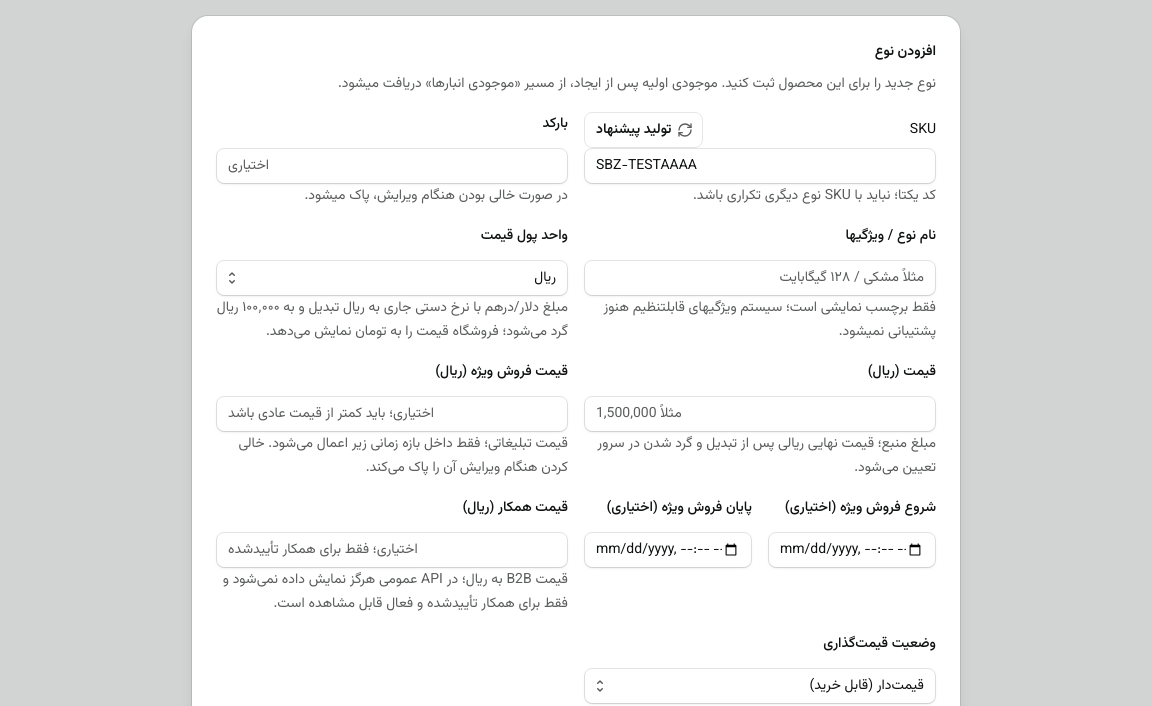
VariantForm SKU suggestion (SS-256) › regenerates only while the field is untouched or empty
The width and height of the screenshot is (1152, 706).
Click the button "تولید پیشنهاد".
click(644, 130)  # box [584, 112, 703, 148]
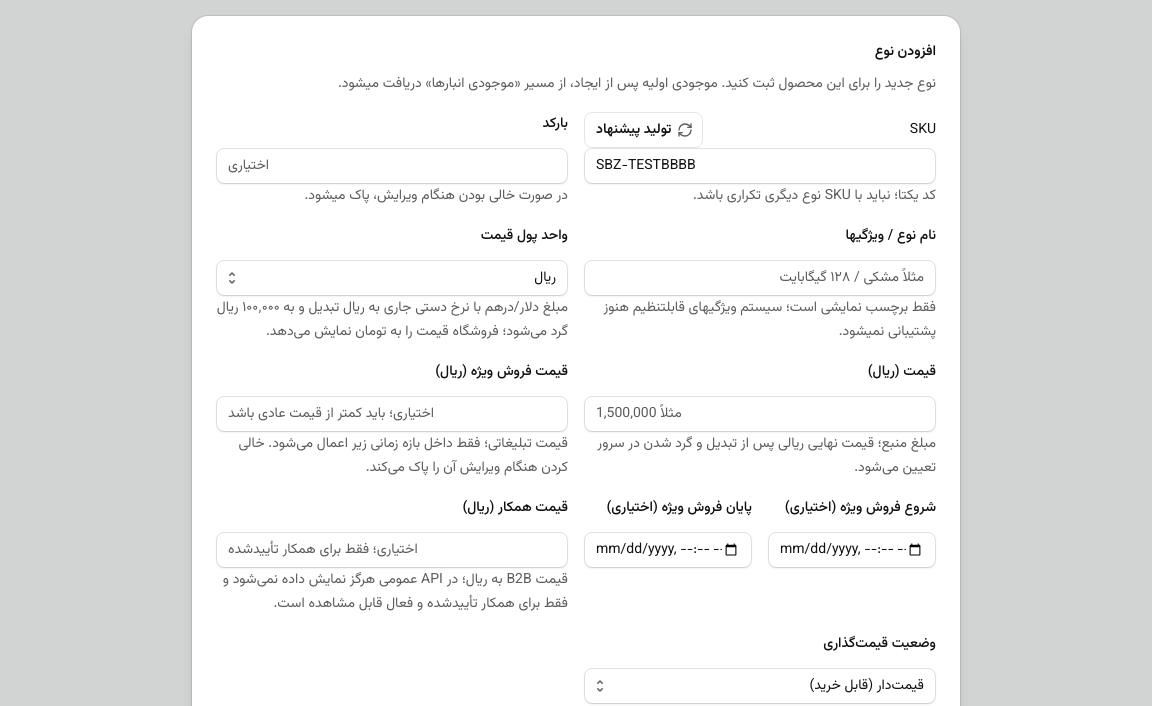
Expected: the field labelled "SKU" holds "SBZ-TESTBBBB"
Replace the text in the field labelled "SKU" with "MY-SKU-1" at (760, 166), box [584, 148, 936, 184]
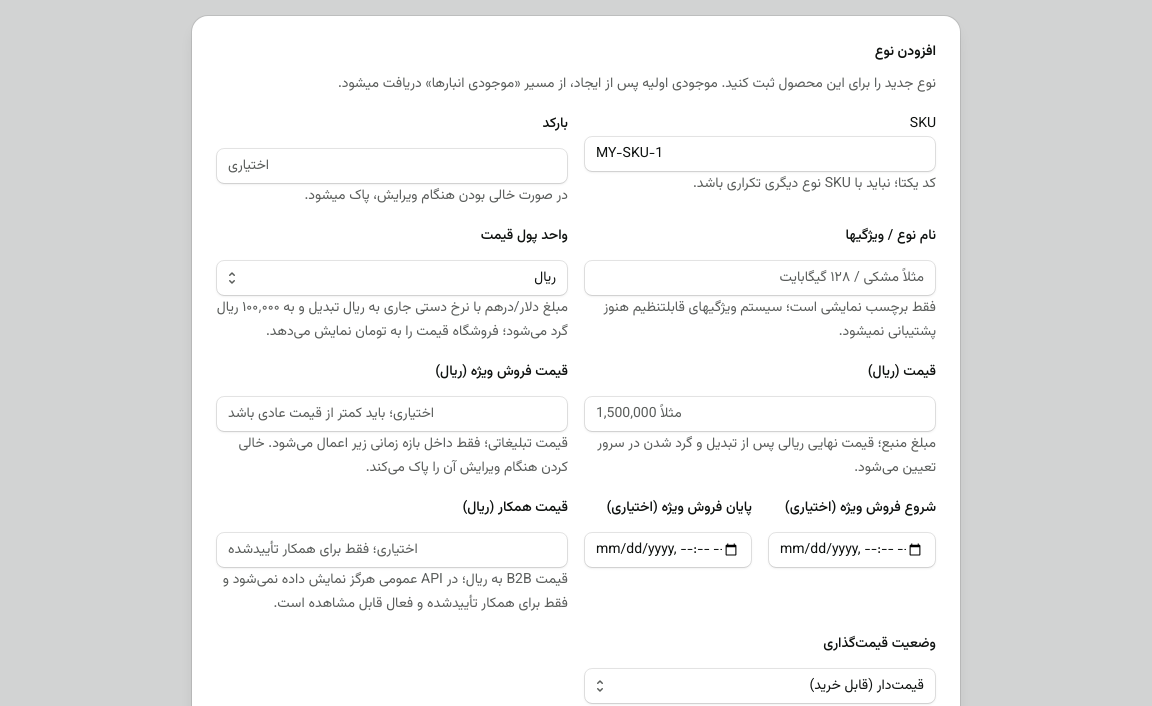
Expected: the button "تولید پیشنهاد" is gone
// Clearing the field re-opens the affordance as one-click recovery.
Clear the field labelled "SKU" at (760, 154), box [584, 136, 936, 172]
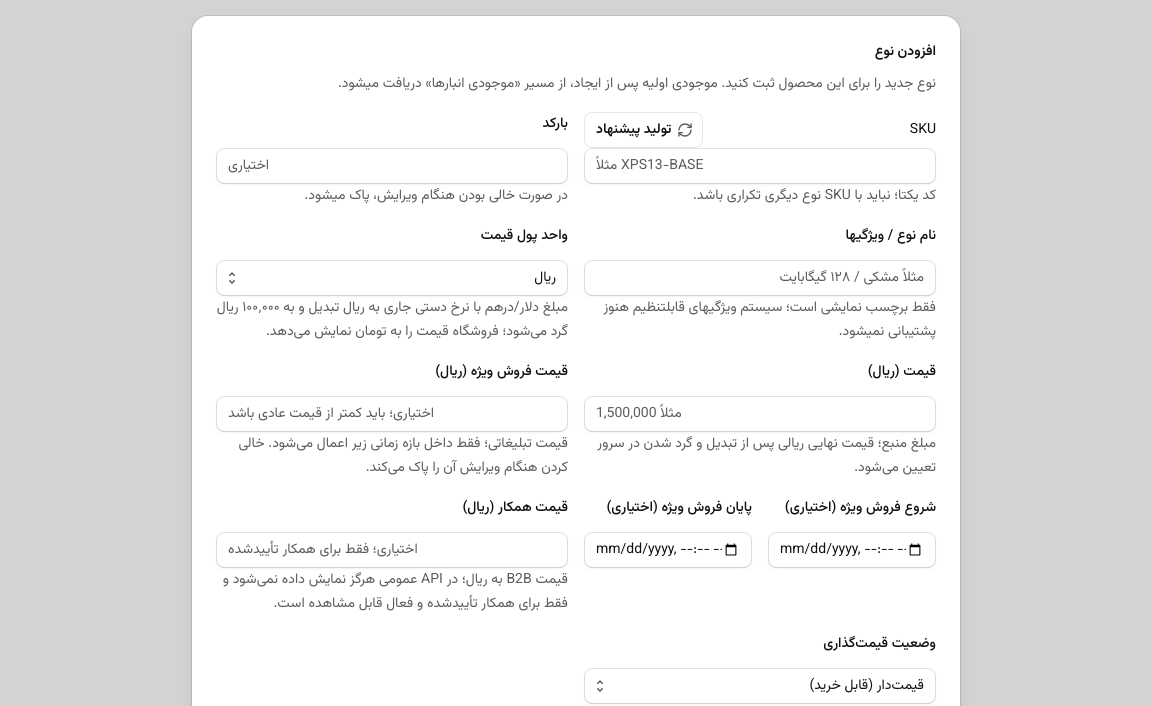
Expected: the button "تولید پیشنهاد" is shown, [584, 112, 703, 148]
